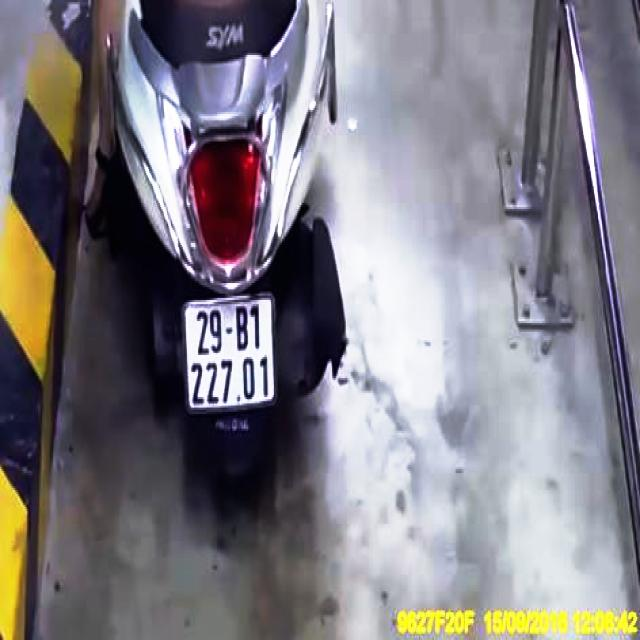license_plate: (185, 302, 274, 410)
